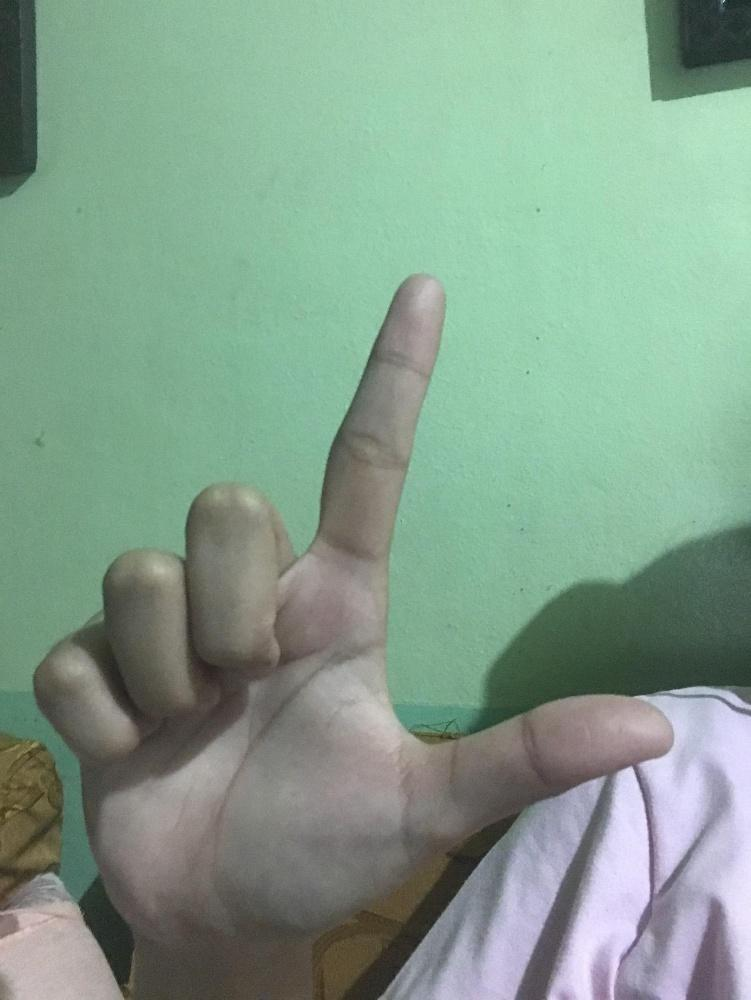l: (23, 264, 680, 946)
